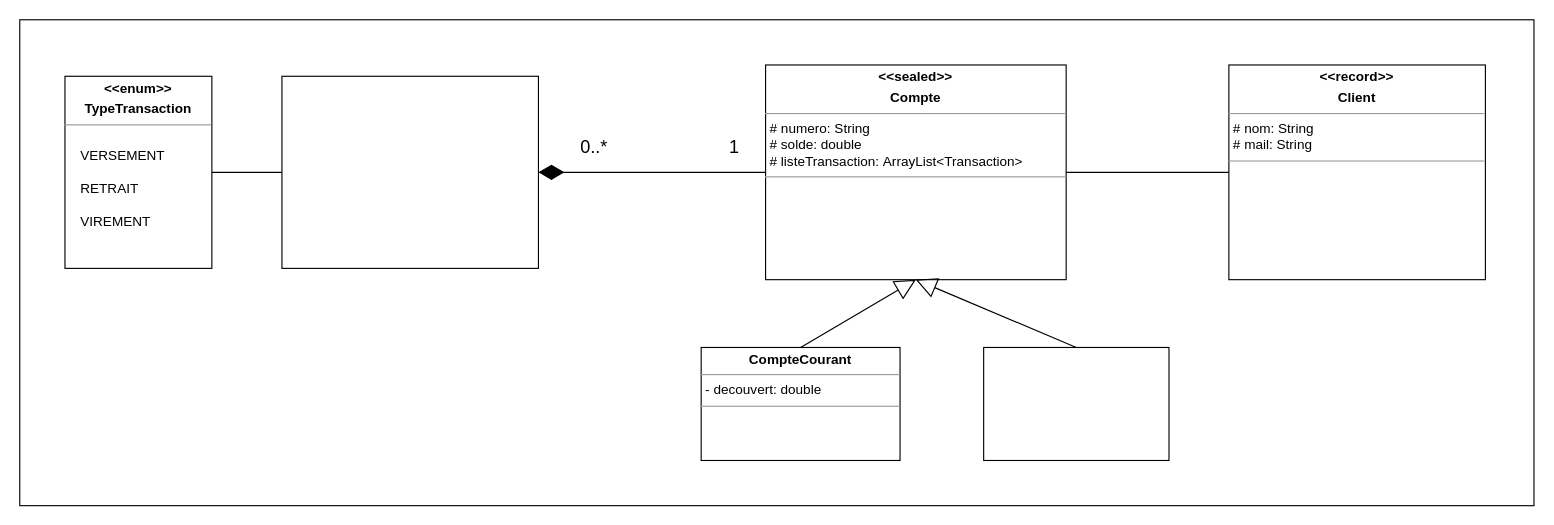
The diagram is 1554 pixels wide and 525 high, and some of its shapes have lost their labels. Each missing label, with the centre of its shape:
"<<record>> Transaction - date: DateTime - montant: double - lieu: String" belongs at [409,171].
"CompteEpargne - tauxInteret: double" belongs at [1076,403].
